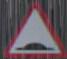Speed Breaker ahead: (8, 4, 58, 53)
